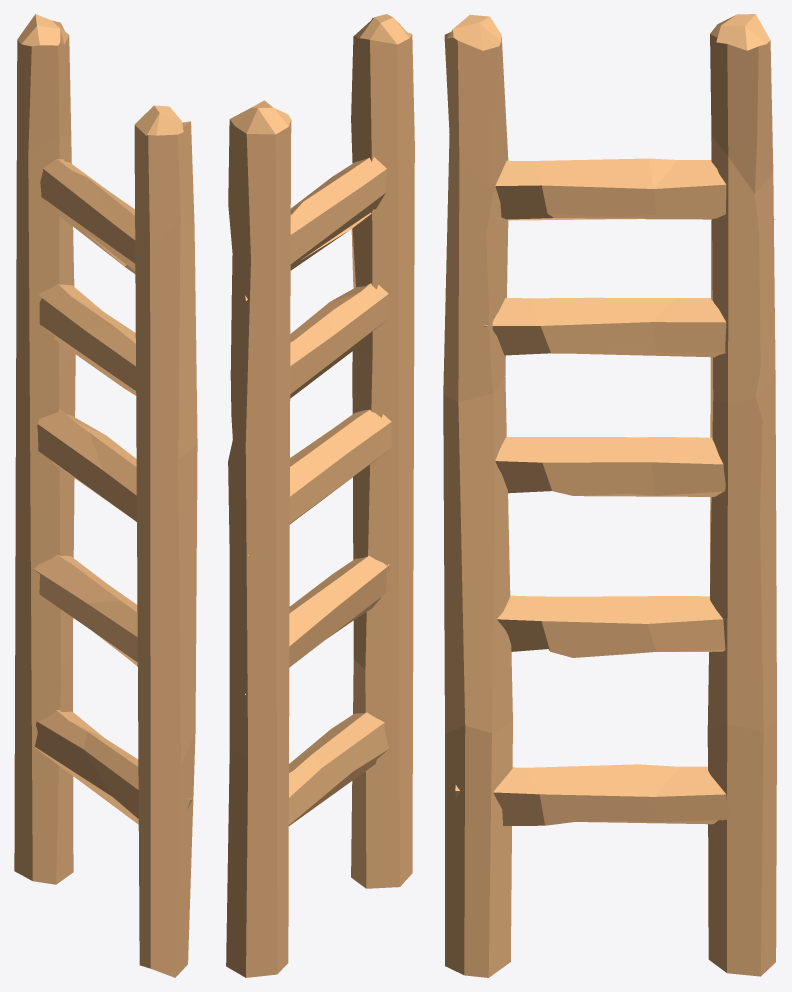
Rendered from cc_ladder1.fbx.
3 views of the same model, side by side, from view 1: azimuth 30°, elevation 25°; view 2: azimuth 150°, elevation 25°; view 3: azimuth 270°, elevation 25° (orthographic). The views are drawn at different scales.
Visible parts, largest first — view 1: Cylinder; view 2: Cylinder; view 3: Cylinder.
Part boxes in pixels (<box>): Cylinder: <box>14,14,197,977</box>; Cylinder: <box>226,14,414,977</box>; Cylinder: <box>443,14,777,977</box>.
Bounding box in the file's own units: 65.89 × 1038 × 330.
